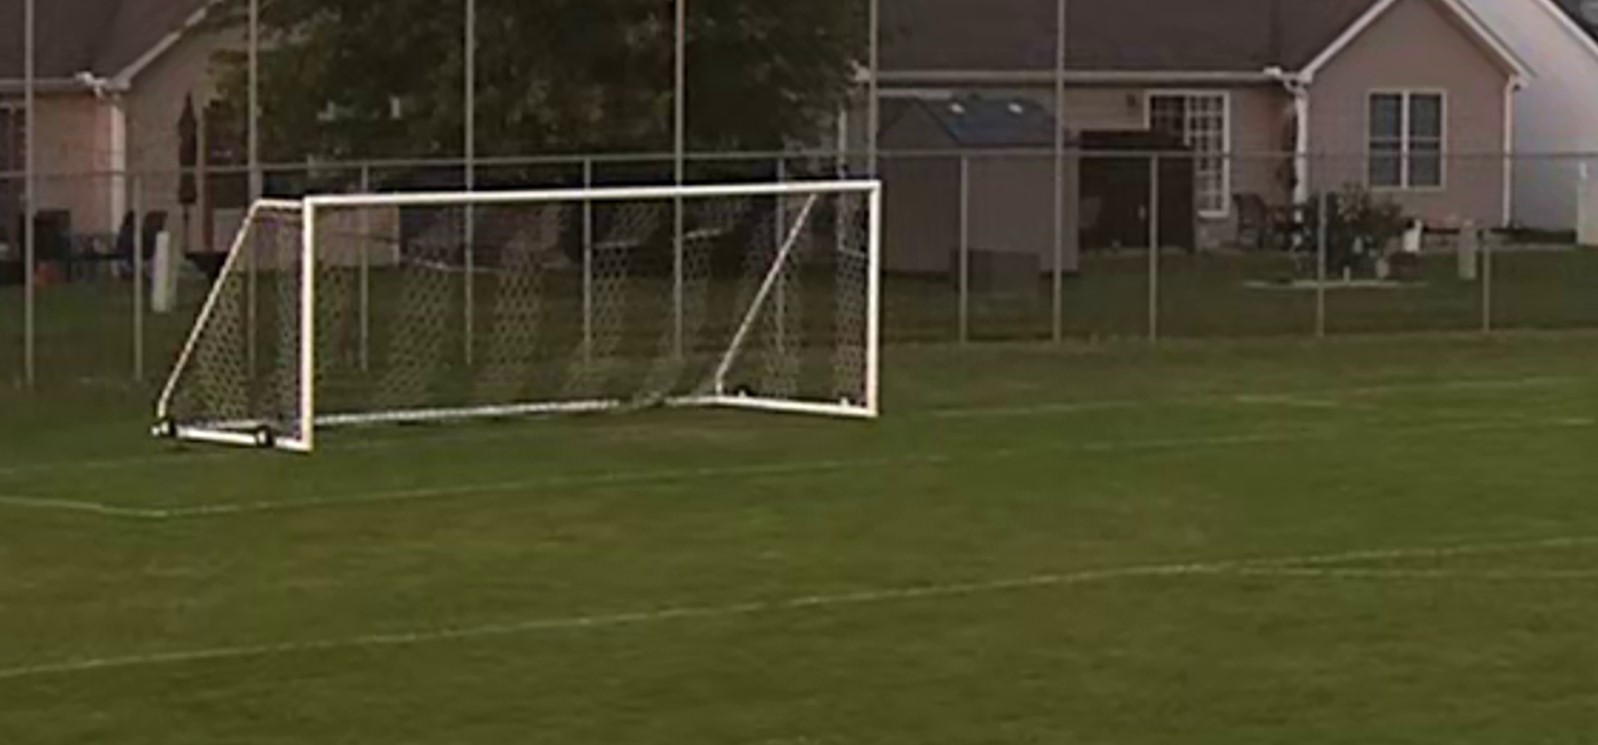bar: (285, 169, 890, 223)
post: (858, 169, 893, 428), (298, 180, 328, 458)
